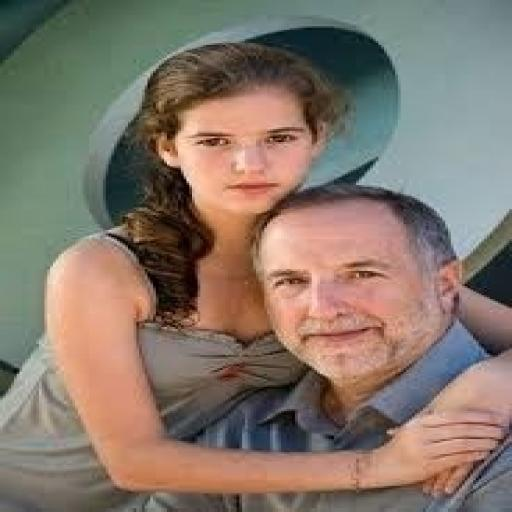hugging: (0, 39, 509, 510)
